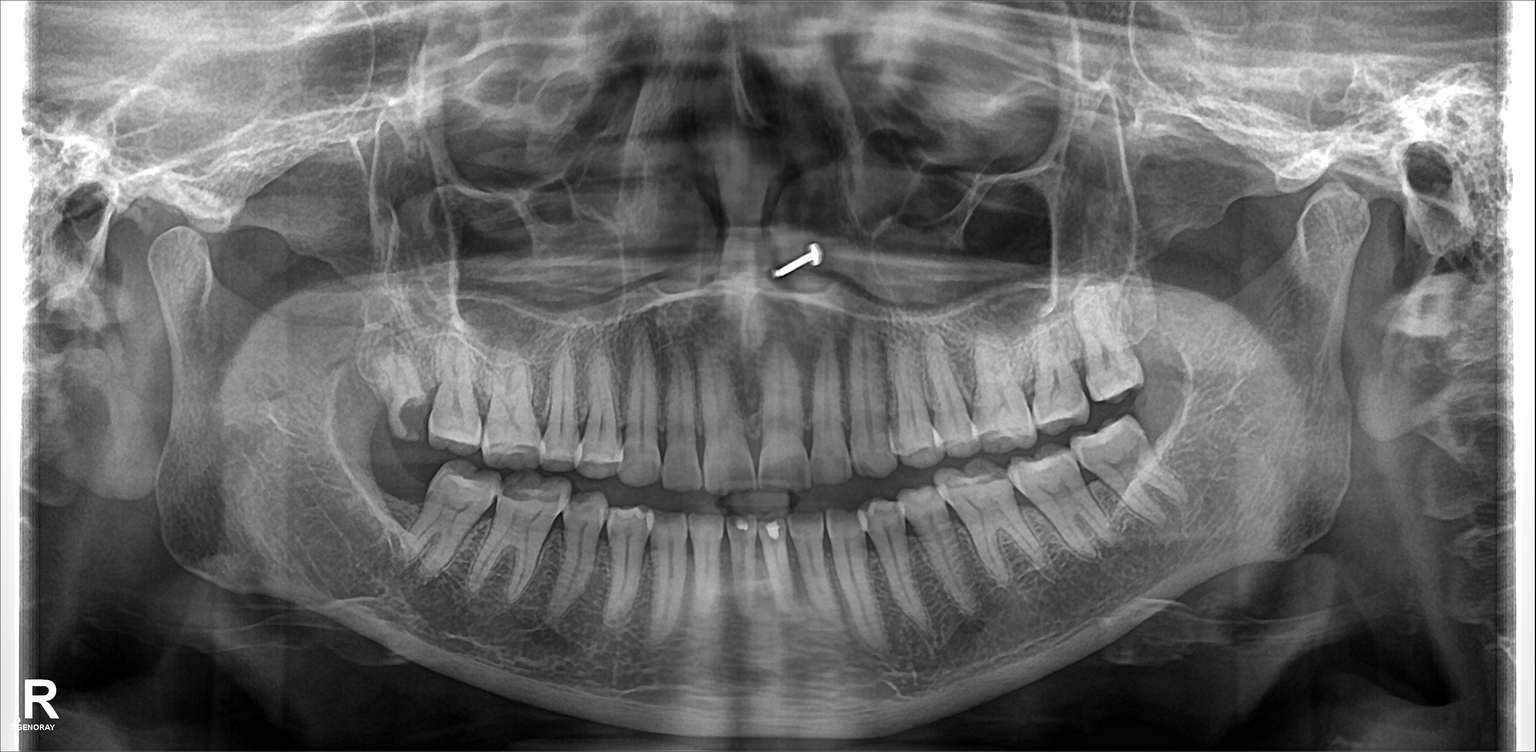Dental Caries: (384, 389, 428, 441)
